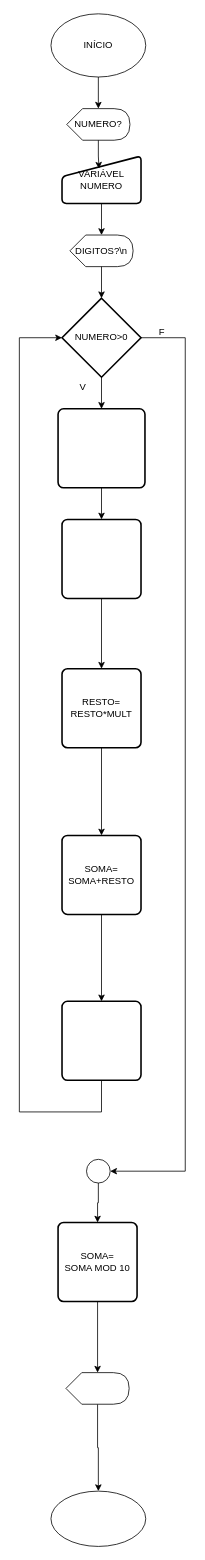
This 205x1560 diagram has some shape labels left out. Each missing label, with the centre of its shape:
"FINAL" goes at point 98,1518.
"MULT= MULT + 1" goes at point 101,1040.
"NUMERO= NUMERO/10" goes at point 101,558.
"RESTO=NUMERO MOD 10" goes at point 101,448.
